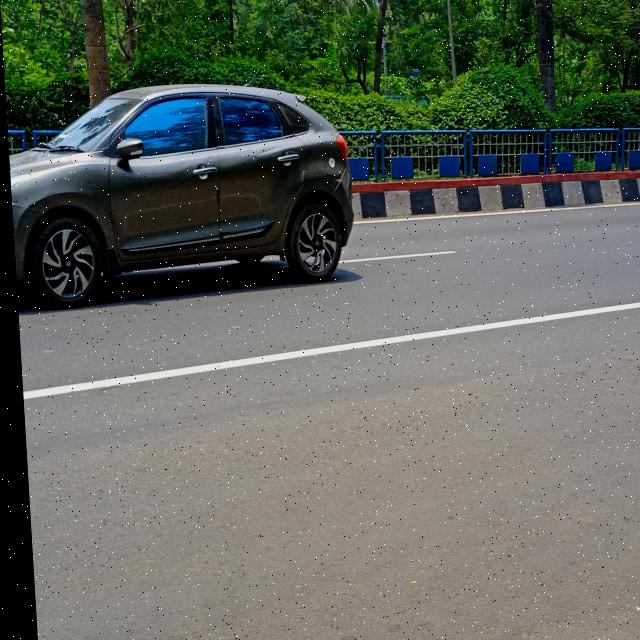car: (6, 73, 368, 294)
